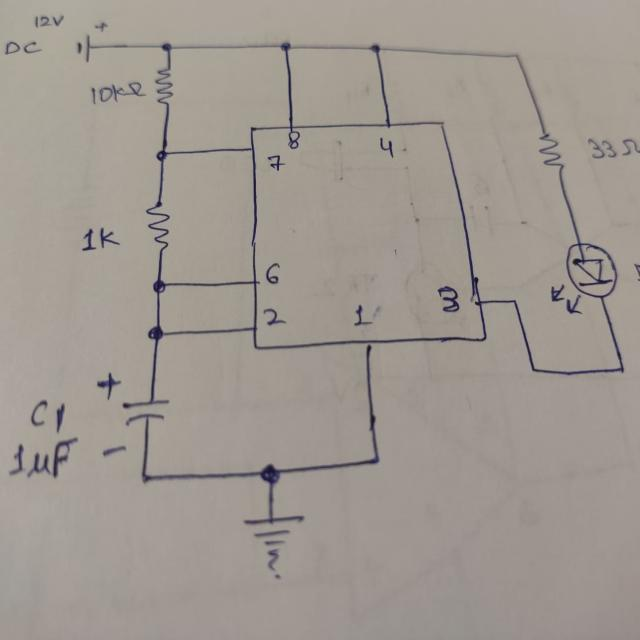capacitor: (94, 368, 174, 458)
diode: (548, 238, 617, 314)
ground: (243, 511, 307, 578)
junction: (364, 448, 385, 470), (260, 463, 282, 483), (365, 40, 386, 60), (137, 467, 154, 487), (147, 323, 164, 342), (152, 276, 168, 296), (508, 293, 522, 313), (509, 47, 523, 67), (279, 38, 295, 55), (159, 38, 173, 57), (155, 145, 169, 164), (614, 358, 628, 376), (527, 360, 541, 376)
resistor: (144, 200, 171, 248), (538, 132, 566, 171), (153, 65, 174, 106)
source: (75, 20, 110, 62)
text: (12, 400, 72, 475), (91, 80, 143, 104), (589, 135, 638, 158), (84, 225, 122, 251), (3, 37, 38, 56), (439, 284, 460, 312), (260, 303, 284, 326), (33, 11, 64, 28), (378, 134, 395, 157), (264, 153, 283, 173), (352, 302, 368, 324), (264, 260, 278, 285), (287, 128, 300, 151)
